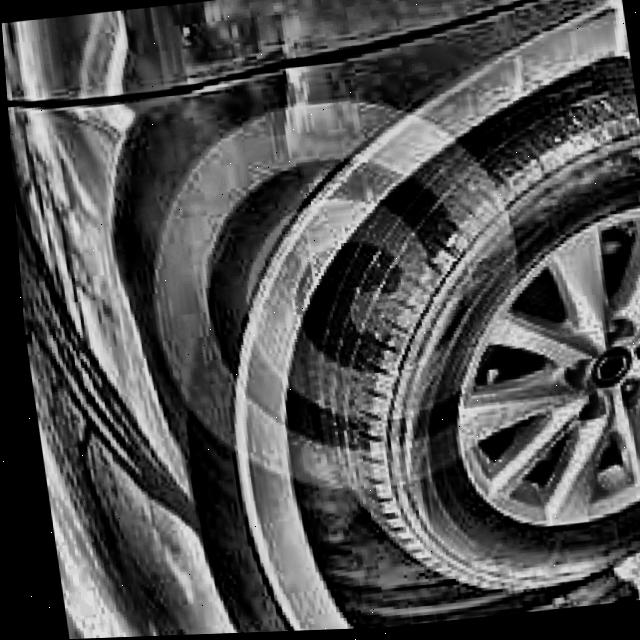door_dent: (237, 21, 335, 159)
